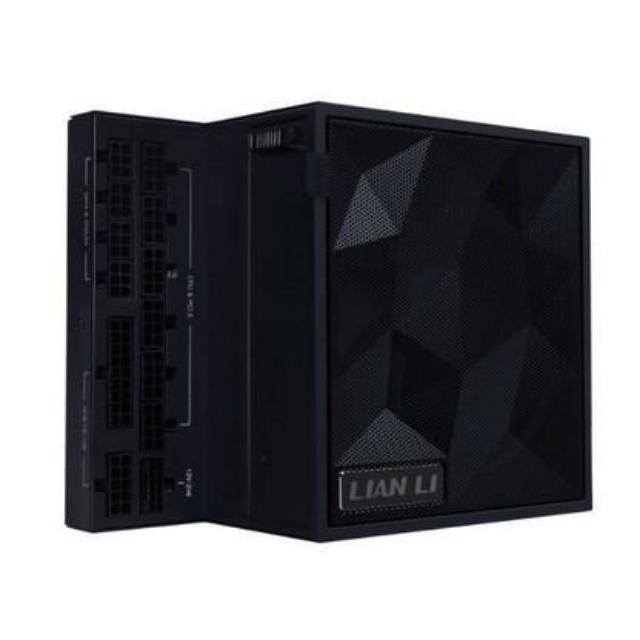PSU: (56, 89, 604, 562)
